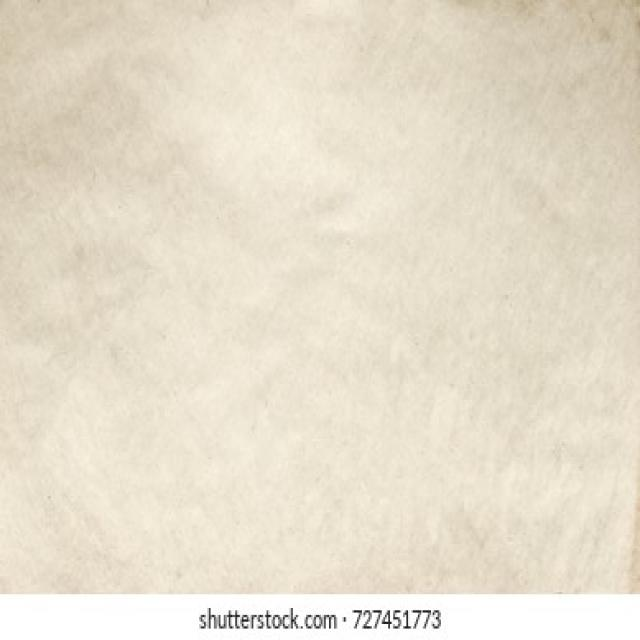PaperCardboard: (0, 0, 640, 595)
